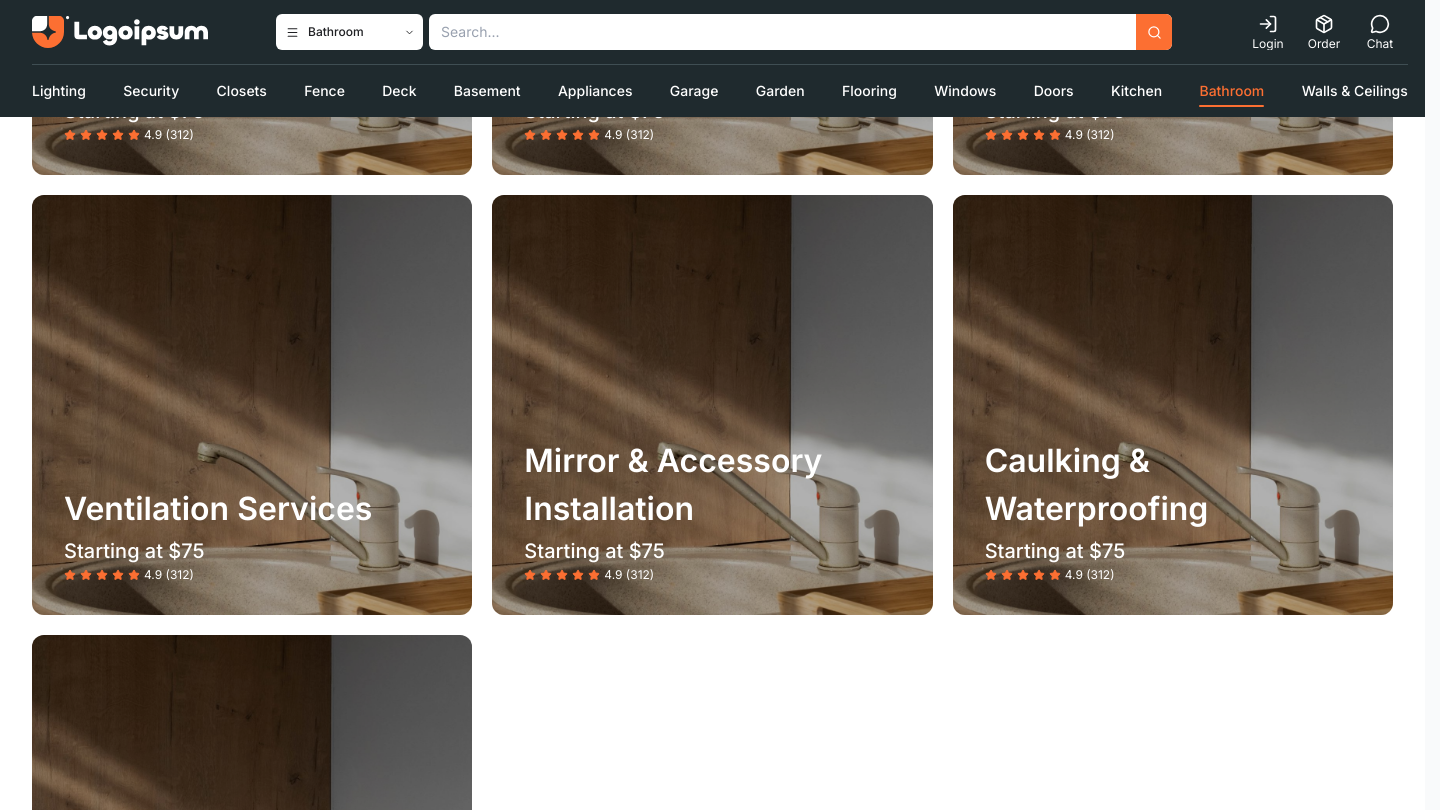
Scenario: Bathroom page › opens child services when a subcategory card is clicked
(page scrolled)
Click the button "Ventilation Services": (252, 405) [32, 195, 472, 615]
(page scrolled)
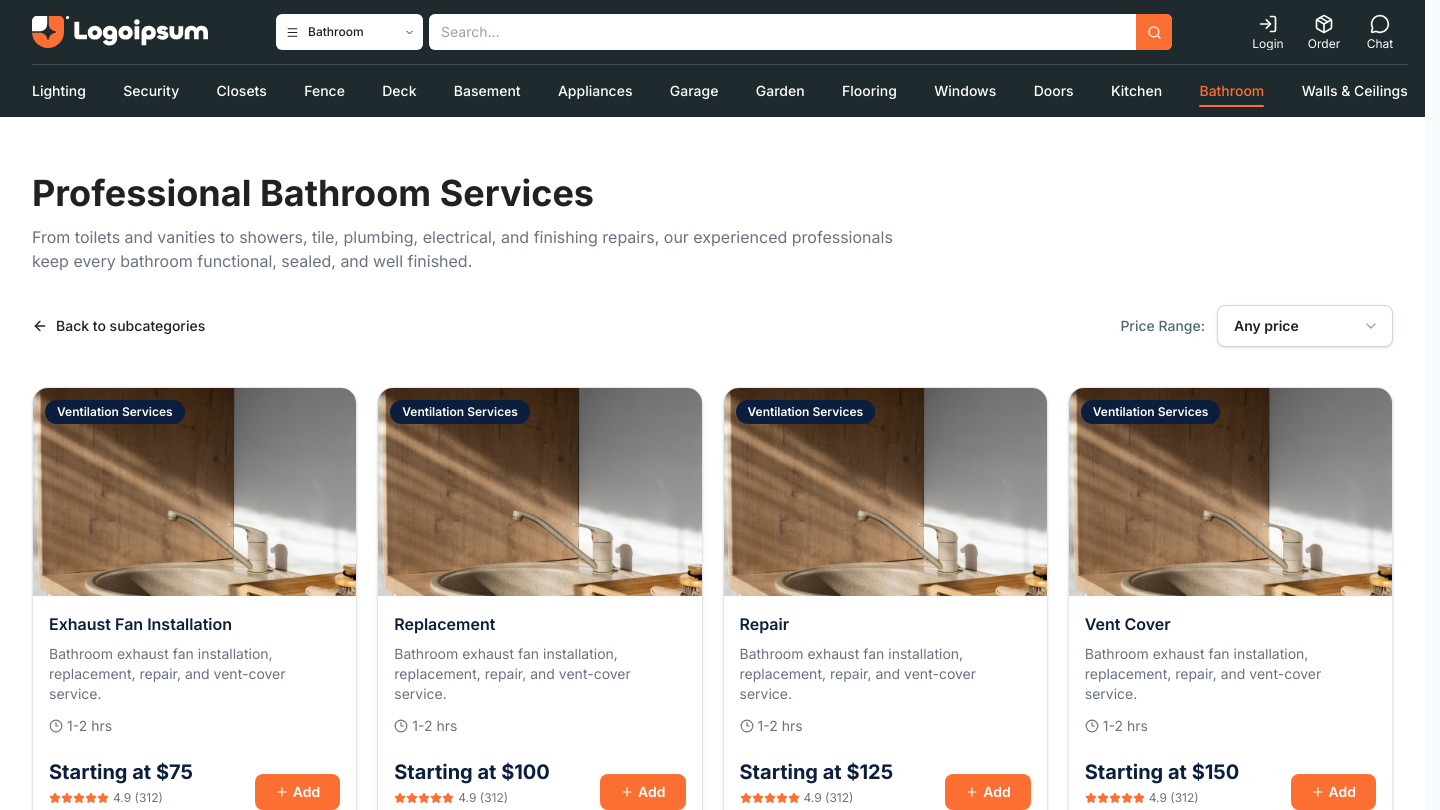
Check: the heading "Vent Cover" is shown, box [1085, 614, 1171, 634]
Check: the button "Back to subcategories" is shown, box [32, 316, 205, 336]
